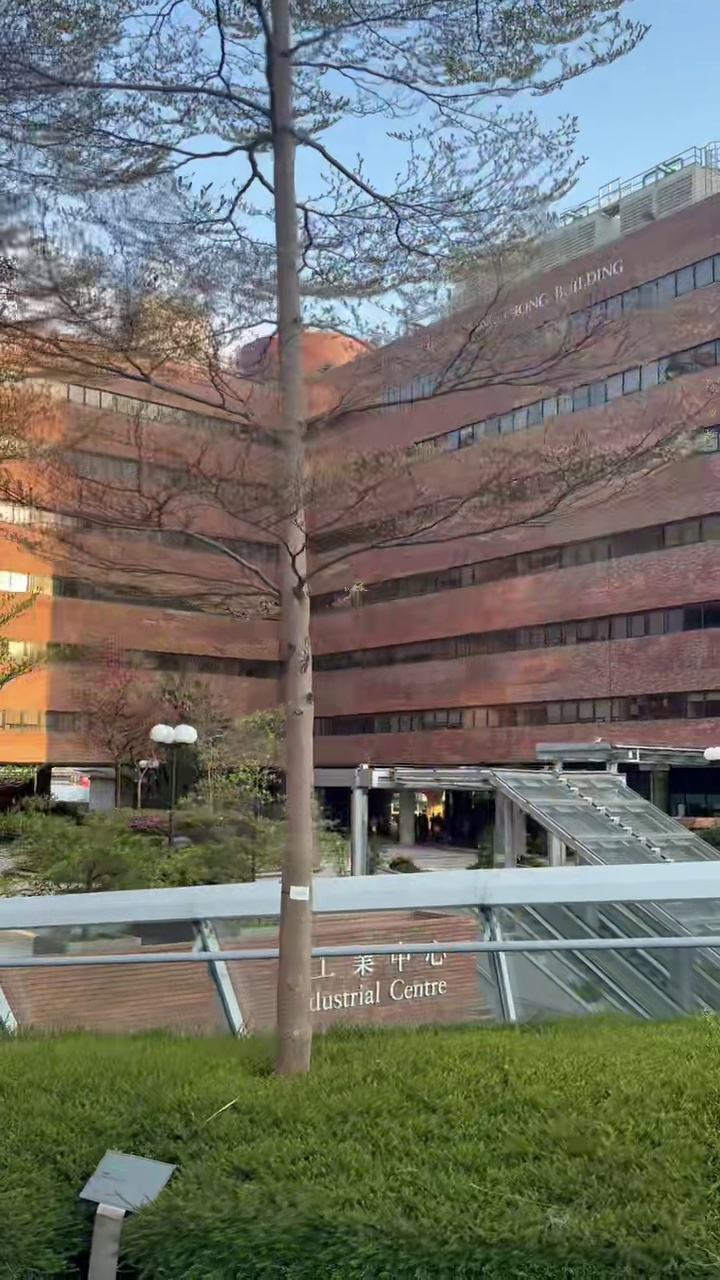Terminalia mantaly: (0, 0, 690, 1072)
